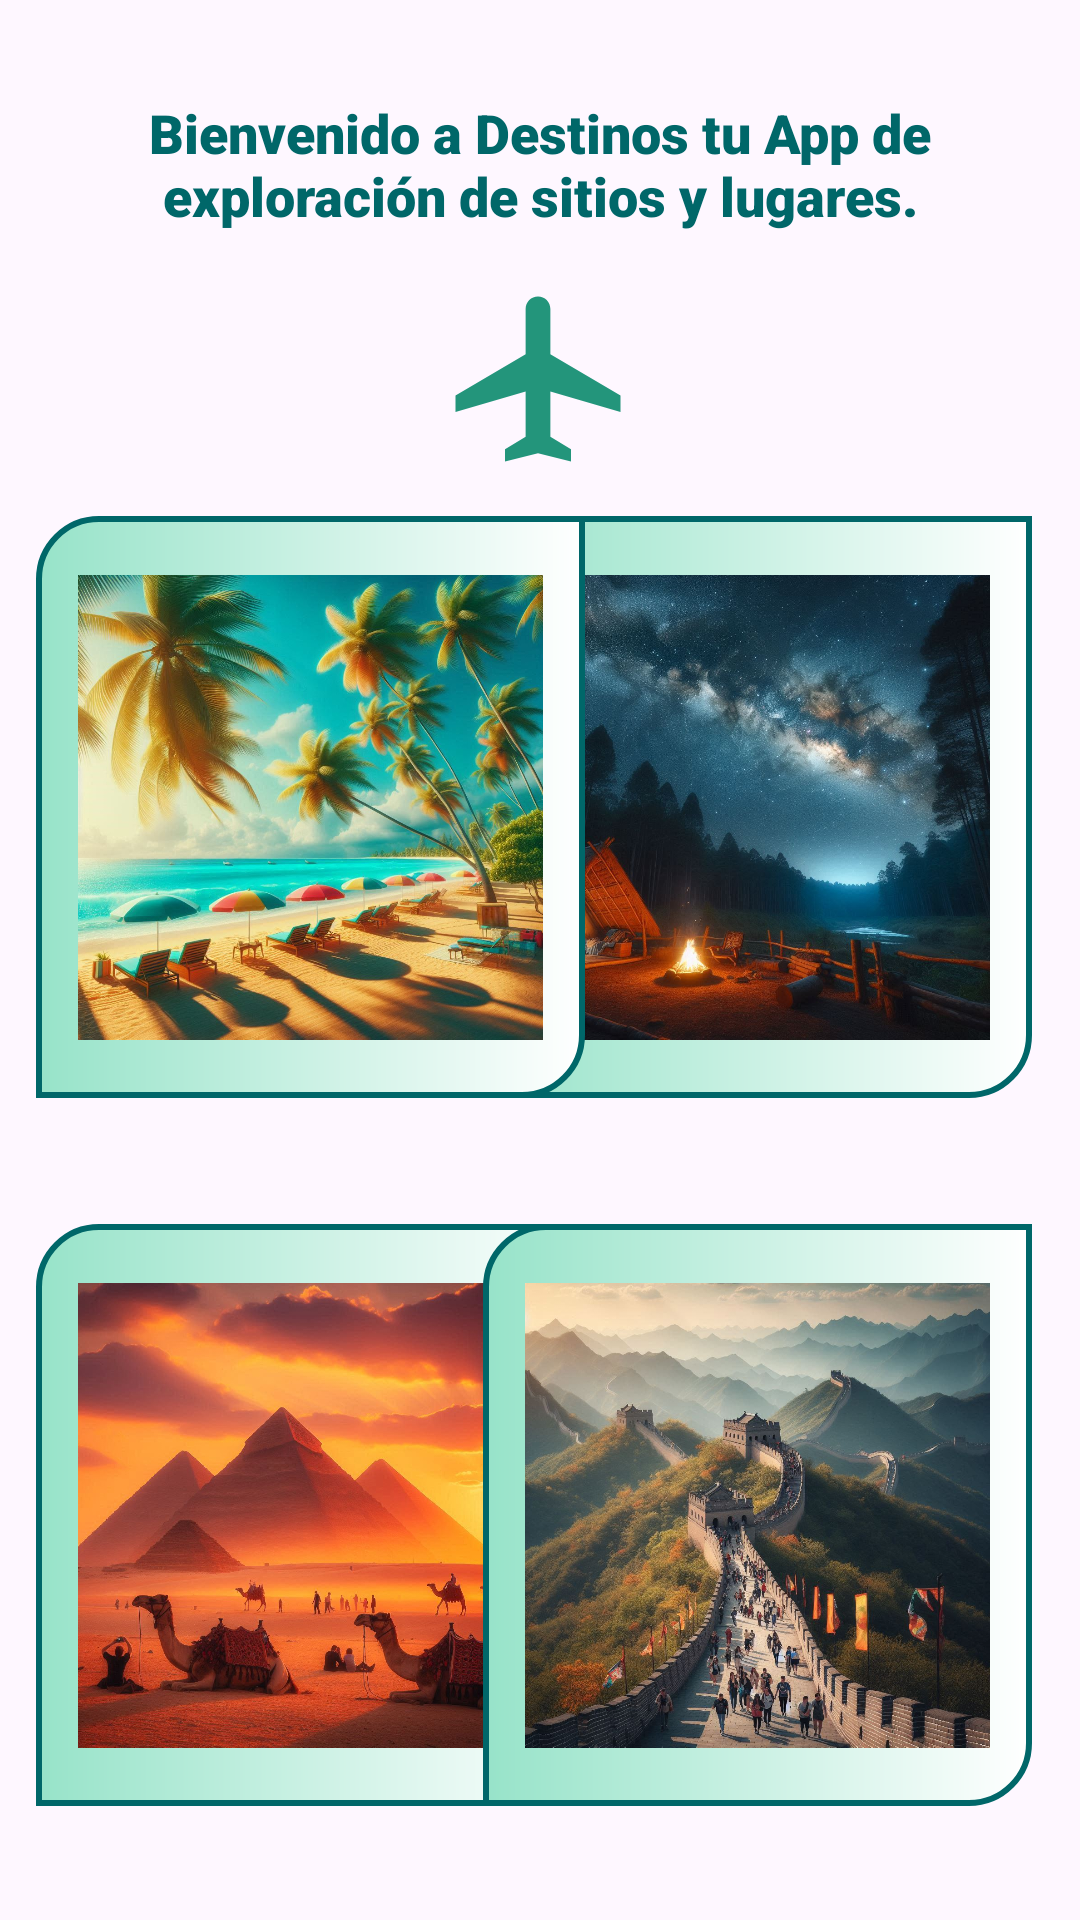

Named icons in this screenshot (1080×1920) and their bounding boxes, (x1, y1, x2, y2):
plane: (455, 296, 621, 462)
